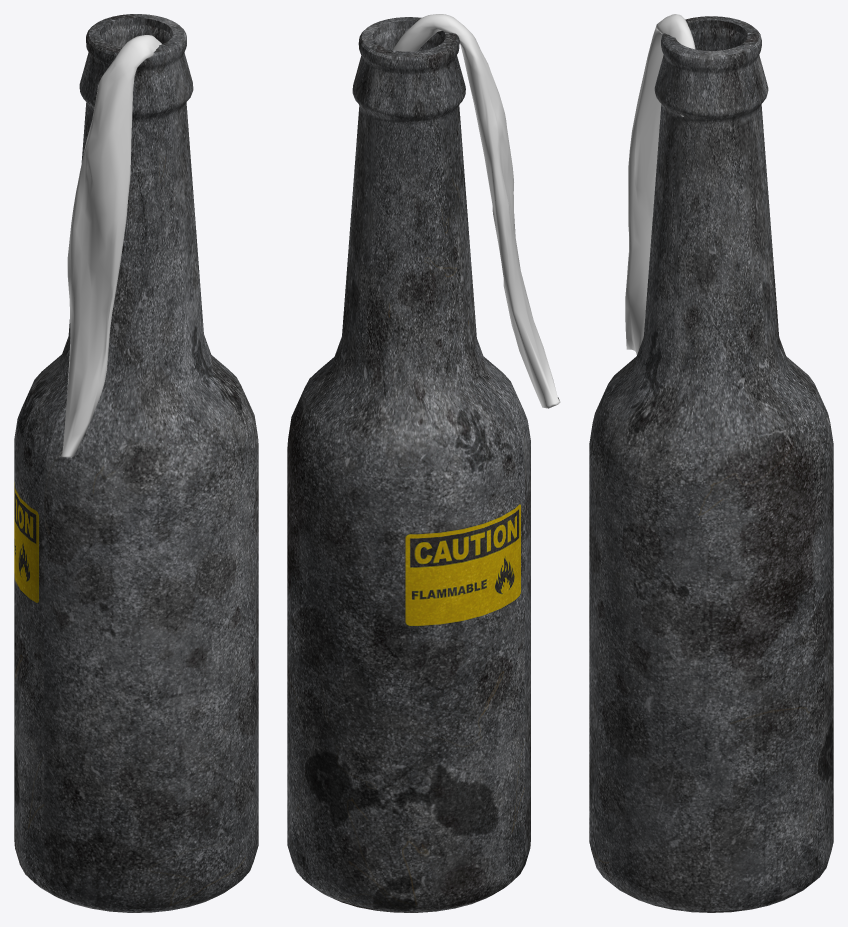
The model's file is molotov.fbx.
3 views of the same model, side by side, from view 1: azimuth 30°, elevation 25°; view 2: azimuth 150°, elevation 25°; view 3: azimuth 270°, elevation 25° (orthographic).
Visible parts, largest first — view 1: MolotovBottle, MolotovWick; view 2: MolotovBottle, MolotovWick; view 3: MolotovBottle, MolotovWick.
Boxes of the visible parts, x1,y1,x2,y2 form: MolotovBottle: (14, 14, 258, 912); MolotovWick: (60, 35, 161, 457); MolotovBottle: (287, 17, 530, 912); MolotovWick: (393, 14, 560, 408); MolotovBottle: (589, 16, 833, 912); MolotovWick: (625, 14, 695, 354).
Size of the model in its own units: 51.61 by 192 by 49.94.
